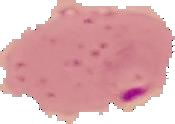parasitized: (10, 37, 157, 108), (111, 64, 156, 105)
